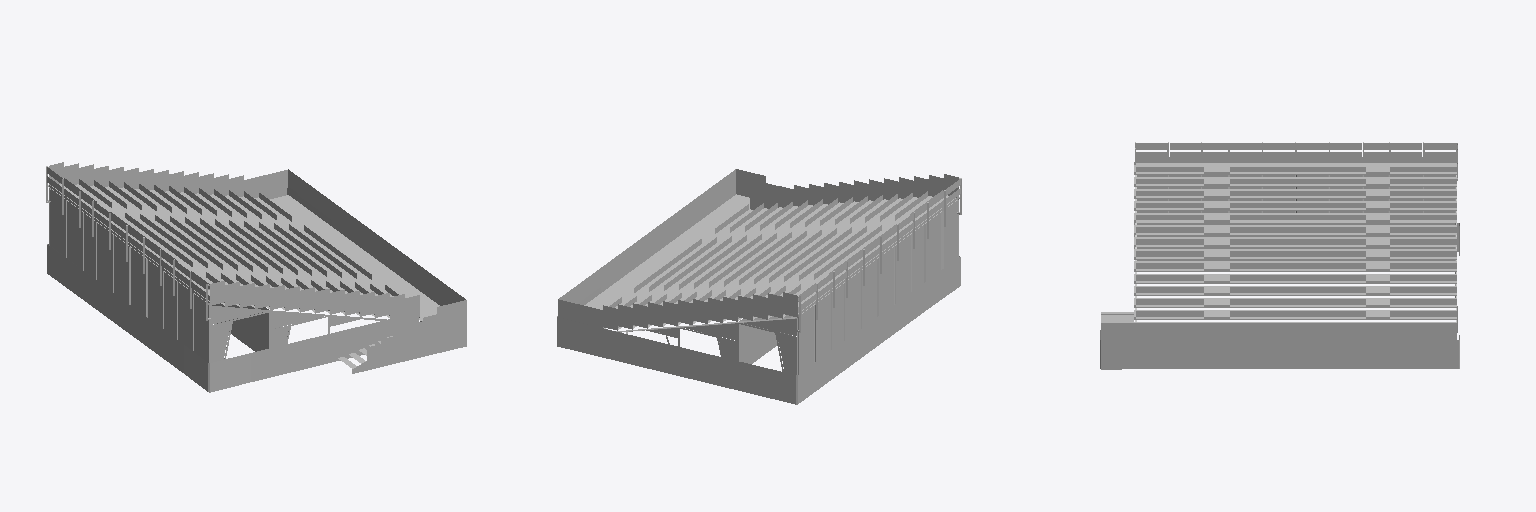
Rendered from curvanord.obj.
The picture shows the model from 3 angles: view 1: azimuth 30°, elevation 25°; view 2: azimuth 150°, elevation 25°; view 3: azimuth 270°, elevation 25°; orthographic projection.
Parts seen in each view (by area): view 1: Curva_Nord; view 2: Curva_Nord; view 3: Curva_Nord.
Boxes of the visible parts, box(x1,y1,x2,y2) form: Curva_Nord: box(46, 162, 466, 392); Curva_Nord: box(557, 169, 961, 404); Curva_Nord: box(1100, 142, 1459, 369).
Bounding box in the file's own units: 15.73 × 6.7 × 20.12.